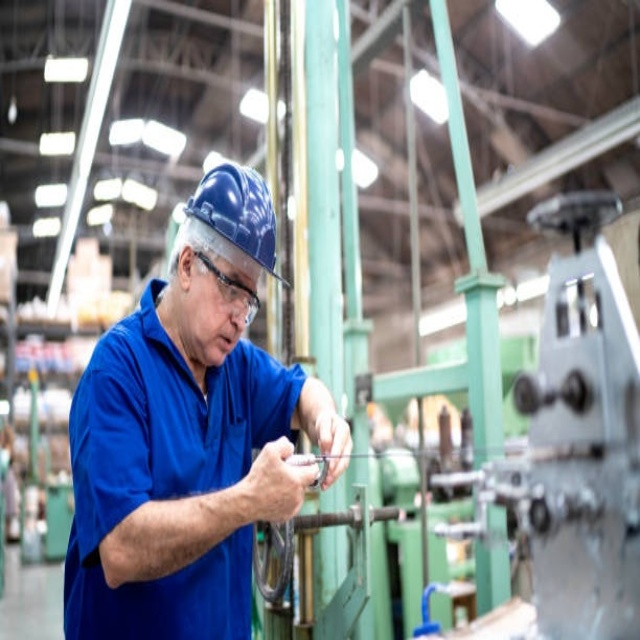Gafas: (192, 250, 262, 327)
Sin_guantes: (249, 433, 319, 523), (307, 407, 352, 491)
Sin_mascara: (202, 328, 239, 361)
